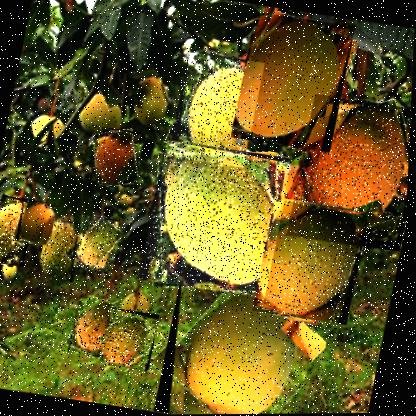mango: (157, 263, 329, 414), (139, 138, 294, 299), (286, 93, 412, 253), (230, 10, 356, 153), (253, 197, 371, 326), (168, 49, 265, 167), (101, 306, 165, 372), (86, 124, 145, 188), (69, 294, 124, 359), (37, 217, 86, 282), (71, 213, 122, 273), (0, 191, 39, 267), (16, 199, 59, 245)
